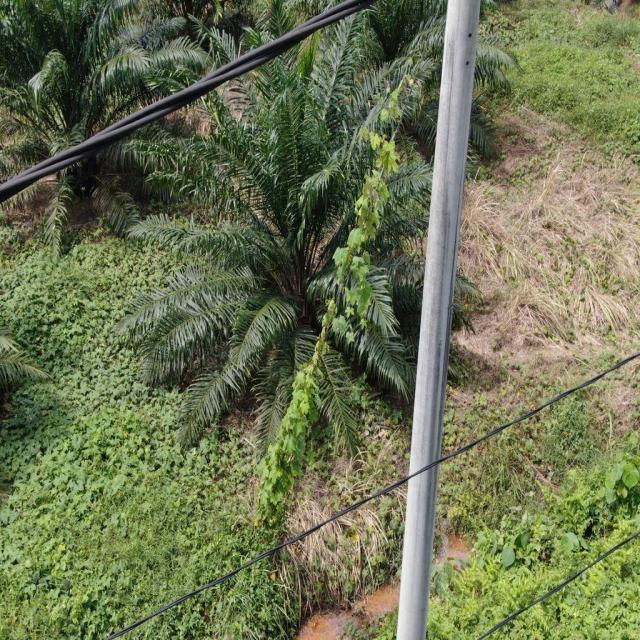critical vegetation: (246, 39, 434, 564)
